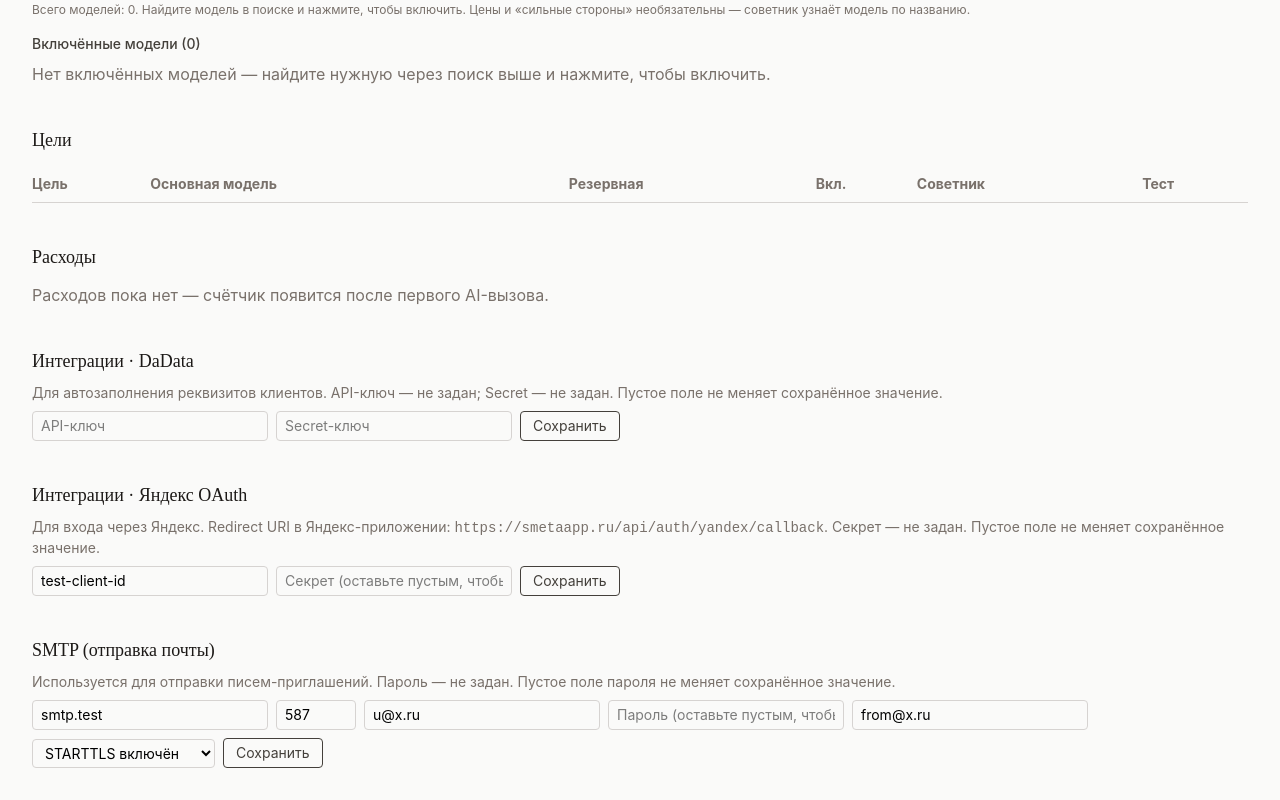
Test: AiConfigPage — блок «Яндекс OAuth» › сохранение вызывает PUT /settings/yandex и показывает «Сохранено»
(page scrolled)
Expected: the field showing "test-client-id" is shown, [32,566,268,596]
// Scope to the Yandex section to disambiguate from the DaData «Сохранить» button
Type "my-secret" into the password field named "Secret Яндекс".
click(394, 581); type("my-secret")  # box [276,566,512,596]
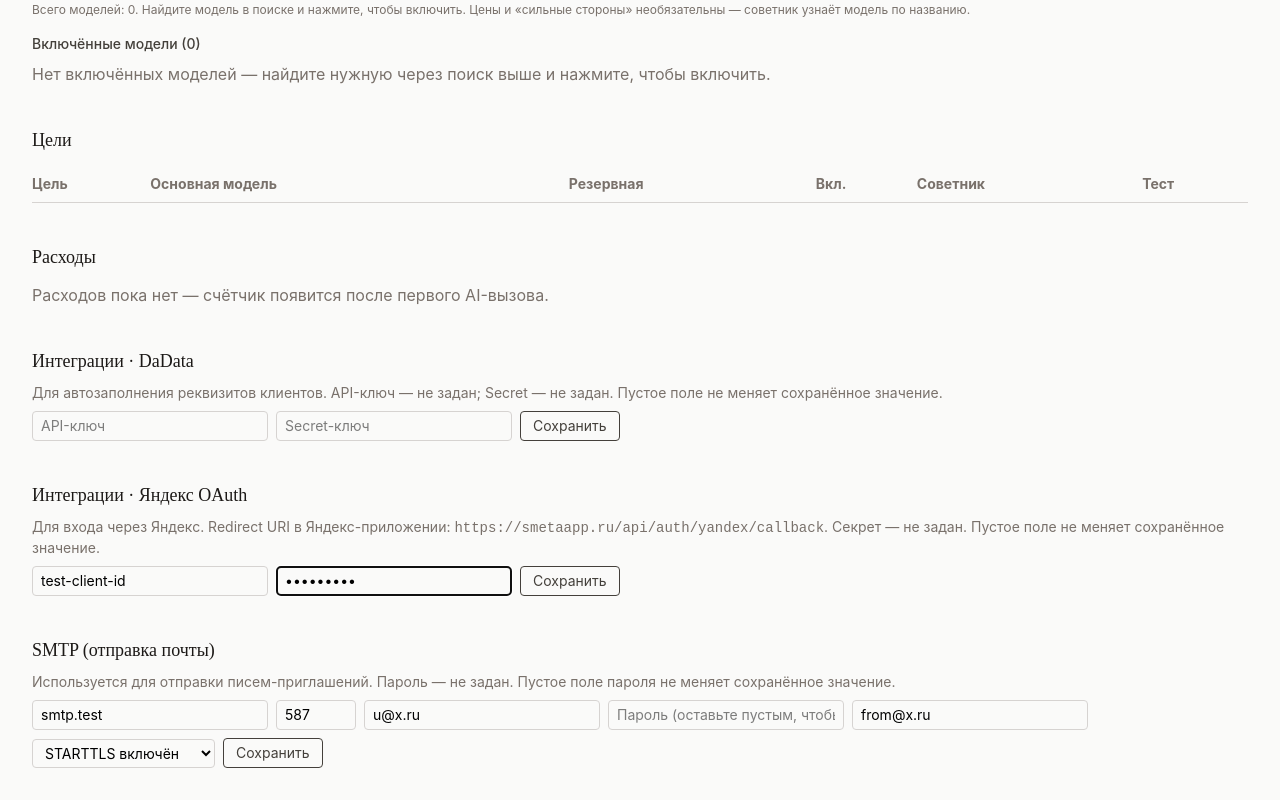
Click the button "Сохранить" below "Секрет —".
click(570, 581)  # box [520,566,620,596]
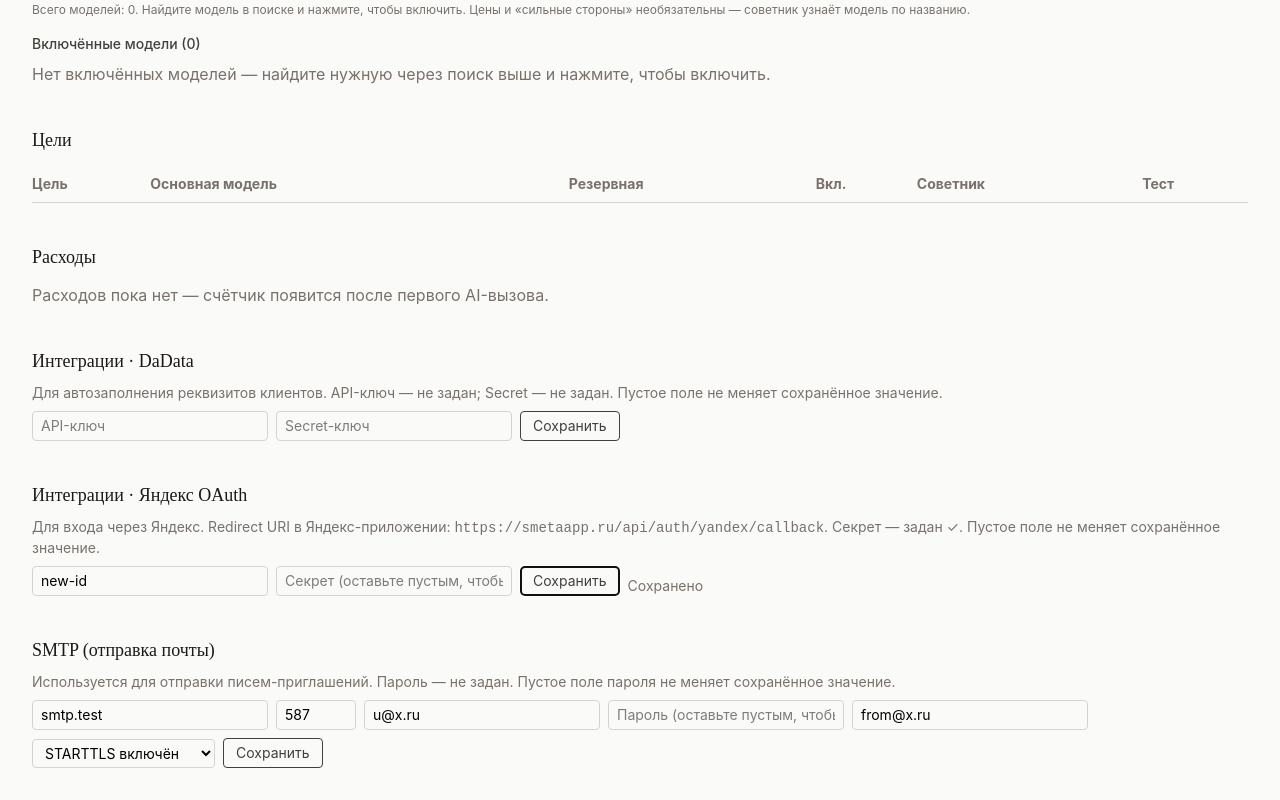
Expected: the text "Сохранено" is shown, [628,576,703,596]
Expected: the password field named "Secret Яндекс" is empty, [276,566,512,596]
